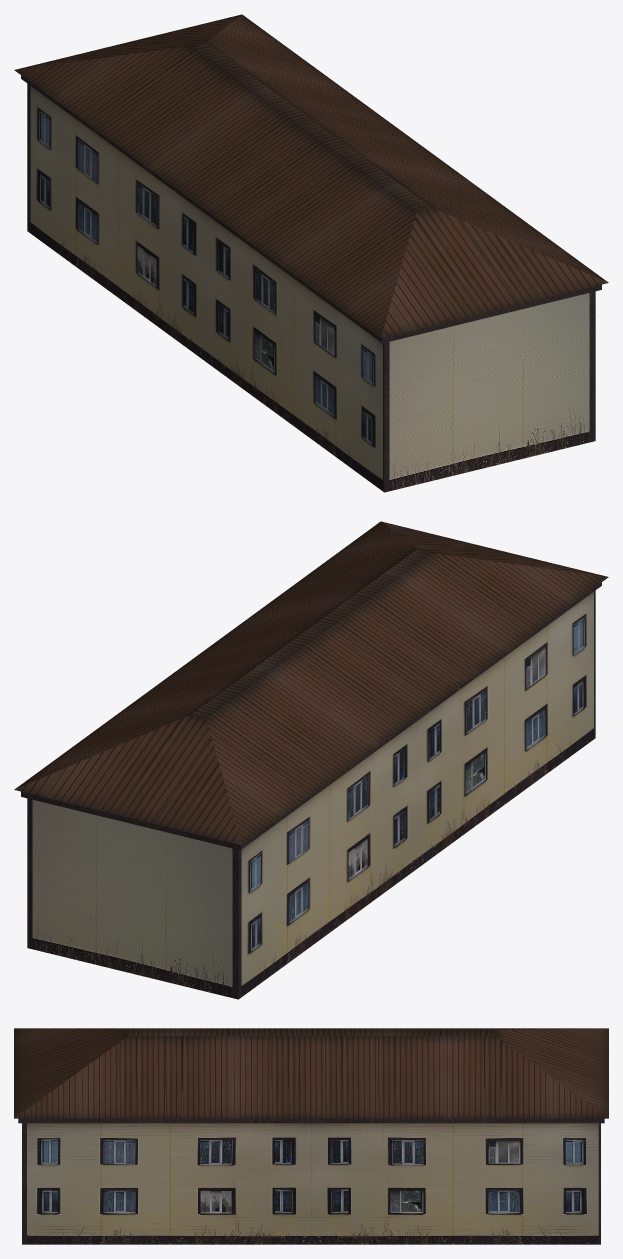
The model's file is sibir_dom_2et6.FBX.
3 views of the same model, one above another, from view 1: azimuth 30°, elevation 25°; view 2: azimuth 150°, elevation 25°; view 3: azimuth 270°, elevation 25° (orthographic). The views are drawn at different scales.
Visible parts, largest first — view 1: sibir_dom_2et6; view 2: sibir_dom_2et6; view 3: sibir_dom_2et6.
Part boxes in pixels (bbox=[...]): sibir_dom_2et6: bbox=[14, 14, 608, 492]; sibir_dom_2et6: bbox=[14, 521, 608, 999]; sibir_dom_2et6: bbox=[14, 1028, 608, 1244].
Bounding box in the file's own units: 973 × 2709 × 853.
